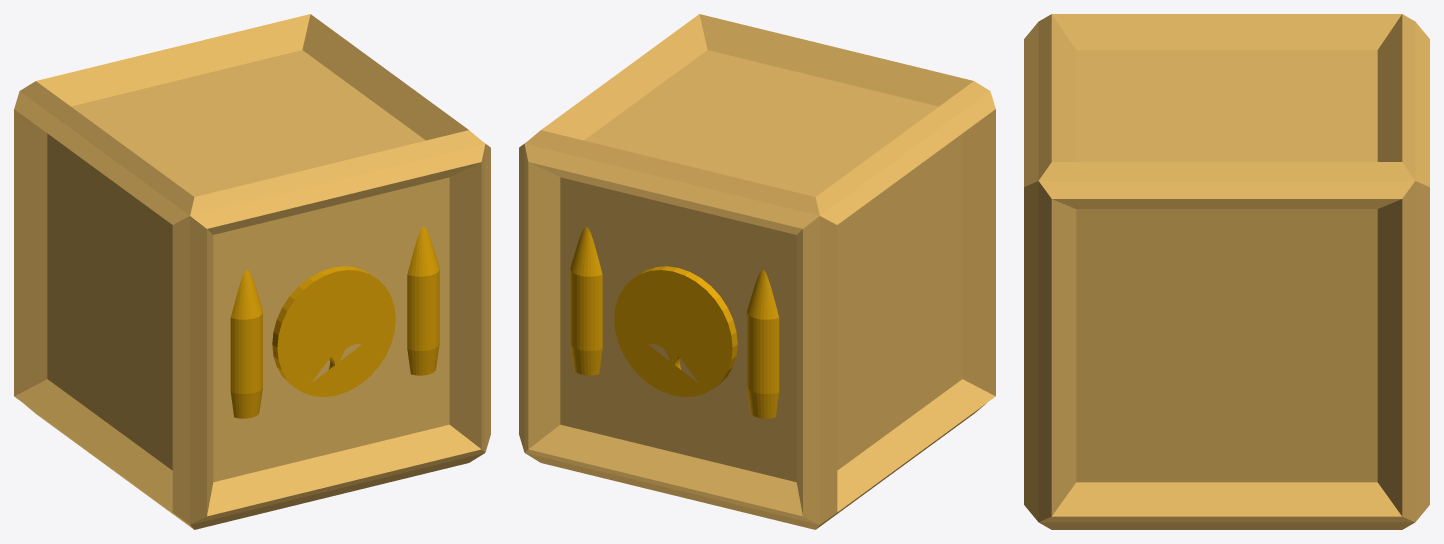
Rendered from RevolverAmmo.fbx.
3 views of the same model, side by side, from view 1: azimuth 30°, elevation 25°; view 2: azimuth 150°, elevation 25°; view 3: azimuth 270°, elevation 25° (orthographic). The views are drawn at different scales.
Visible parts, largest first — view 1: Case, Icon; view 2: Case, Icon; view 3: Case.
Boxes of the visible parts, x1,y1,x2,y2 form: Case: (14,14,490,529); Icon: (230,226,439,418); Case: (519,14,995,529); Icon: (570,226,779,418); Case: (1024,14,1429,529).
Size of the model in its own units: 200 by 200 by 200.
